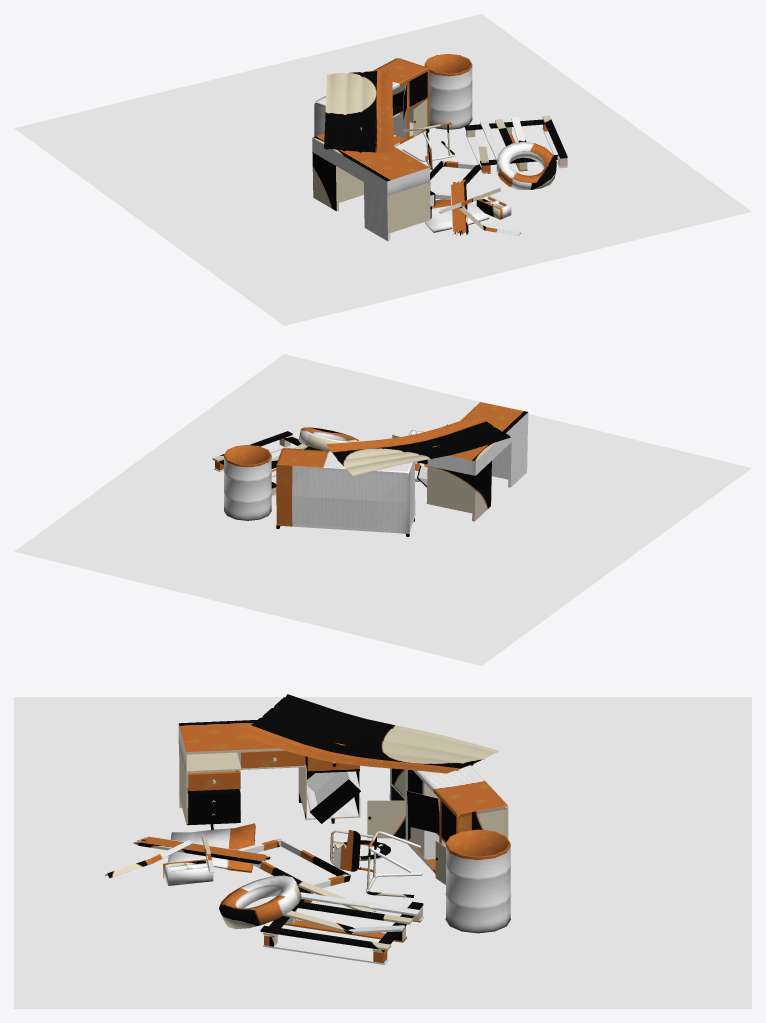
The picture shows the model from 3 angles, top to bottom: view 1: azimuth 30°, elevation 25°; view 2: azimuth 150°, elevation 25°; view 3: azimuth 270°, elevation 25°; orthographic projection. The views are drawn at different scales.
Parts seen in each view (by area): view 1: Plane, OldTable, MetalPlate_02, Rusted_Metals_locker_LP, Rusted_Barrel, WoodPlatform, Old_Tire, RustedMetalPlate, WoodBarBroken_01, BrokenChair, OldWindowFrame, ConcreteBlock; view 2: Plane, Rusted_Metals_locker_LP, OldTable, MetalPlate_02, Rusted_Barrel, WoodPlatform, Old_Tire; view 3: Plane, OldTable, MetalPlate_02, Rusted_Metals_locker_LP, Rusted_Barrel, WoodPlatform, Old_Tire, RustedMetalPlate, BrokenChair, OldWindowFrame, WoodBarBroken_01, ConcreteBlock (+1 smaller).
Part boxes in pixels (x1,y1,x2,y2): Plane: [14, 14, 751, 325]; OldTable: [312, 127, 435, 241]; MetalPlate_02: [324, 70, 393, 153]; Rusted_Metals_locker_LP: [314, 58, 429, 146]; Rusted_Barrel: [424, 54, 472, 129]; WoodPlatform: [464, 115, 567, 174]; Old_Tire: [496, 141, 556, 189]; RustedMetalPlate: [424, 199, 489, 232]; WoodBarBroken_01: [450, 181, 468, 235]; BrokenChair: [402, 121, 454, 169]; OldWindowFrame: [430, 160, 481, 200]; ConcreteBlock: [476, 196, 511, 219]; Plane: [14, 354, 751, 665]; Rusted_Metals_locker_LP: [276, 448, 415, 536]; OldTable: [417, 402, 528, 521]; MetalPlate_02: [326, 415, 510, 476]; Rusted_Barrel: [224, 445, 271, 520]; WoodPlatform: [212, 431, 322, 496]; Old_Tire: [298, 427, 359, 450]; Plane: [14, 697, 751, 1008]; OldTable: [178, 720, 360, 829]; MetalPlate_02: [239, 694, 498, 773]; Rusted_Metals_locker_LP: [367, 765, 508, 884]; Rusted_Barrel: [445, 829, 510, 933]; WoodPlatform: [260, 881, 423, 964]; Old_Tire: [219, 875, 301, 929]; RustedMetalPlate: [167, 823, 255, 872]; BrokenChair: [330, 829, 422, 897]; OldWindowFrame: [237, 838, 350, 889]; WoodBarBroken_01: [132, 836, 270, 864]; ConcreteBlock: [163, 859, 213, 885].
Size of the model in its own units: 805 by 126 by 805.
